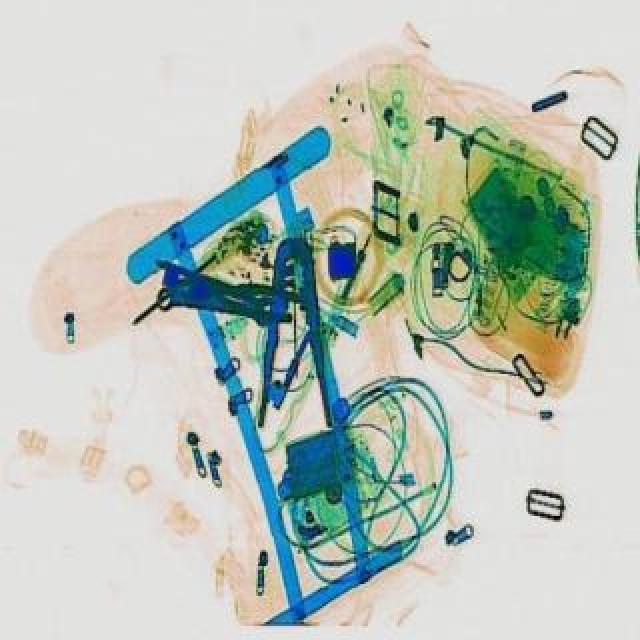wrench: (256, 234, 332, 426)
